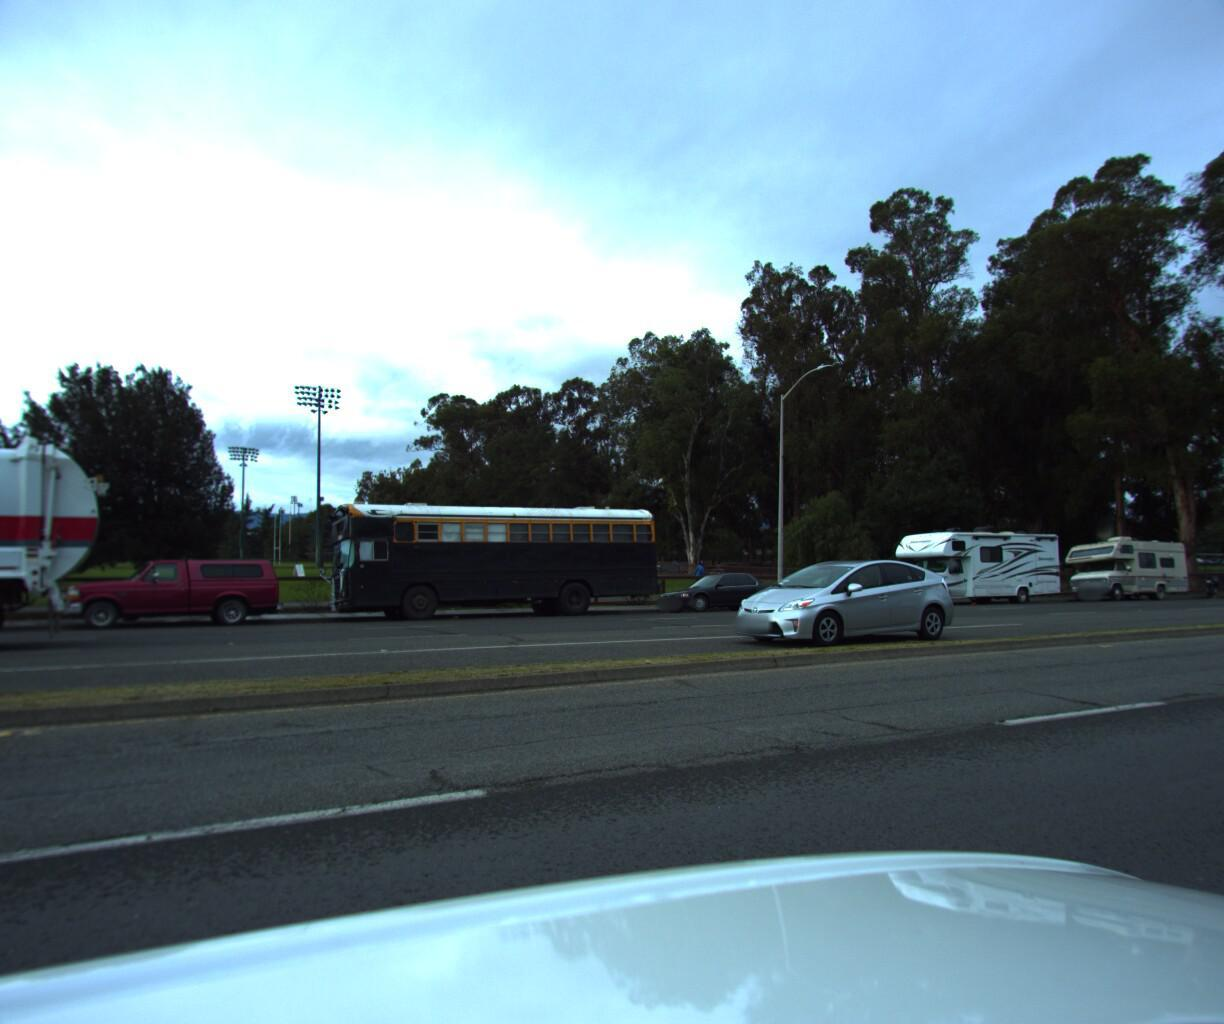bus: (321, 487, 665, 633)
car: (721, 553, 975, 652), (55, 556, 286, 641), (650, 566, 787, 616), (1214, 566, 1224, 595)
motorcycle: (1192, 566, 1222, 595)
other_vehicle: (880, 514, 1068, 610), (1048, 527, 1190, 599)
